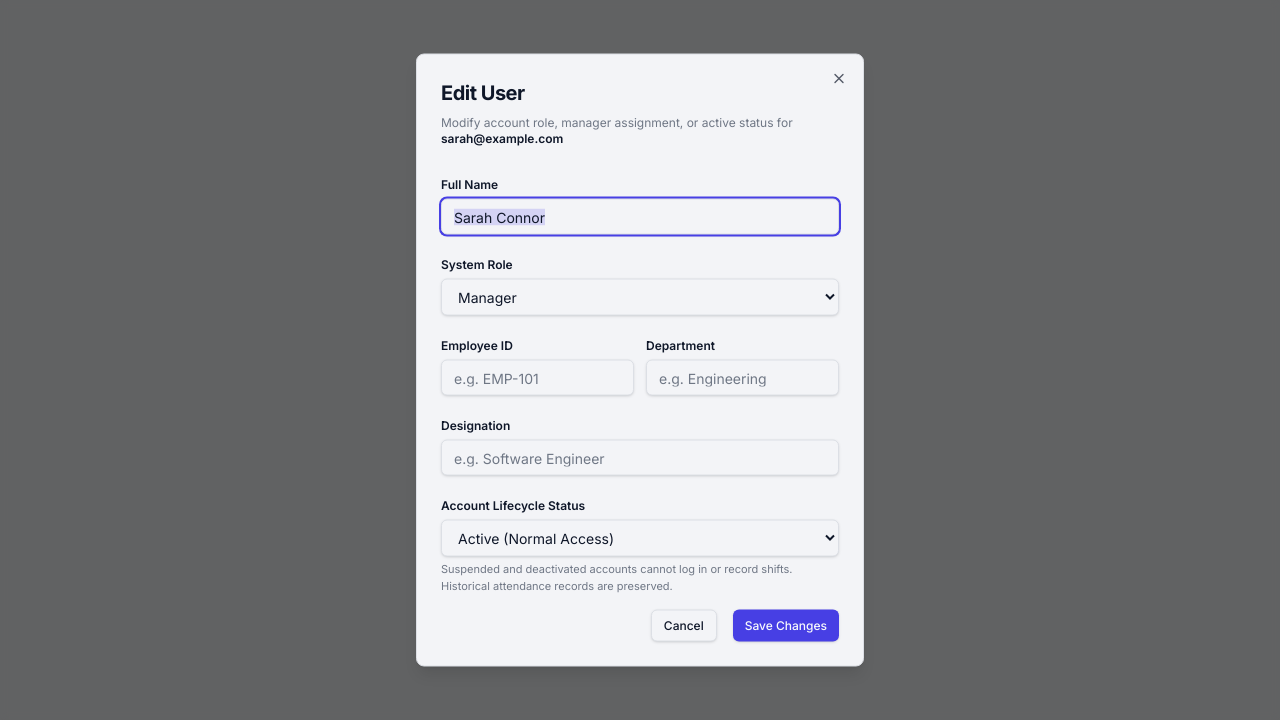
Scenario: UserEditDialog Component › maps HAS_TEAM_MEMBERS server error to descriptive message
The image size is (1280, 720).
Click the button "Save Changes" at [786, 626], box [733,610,839,642]
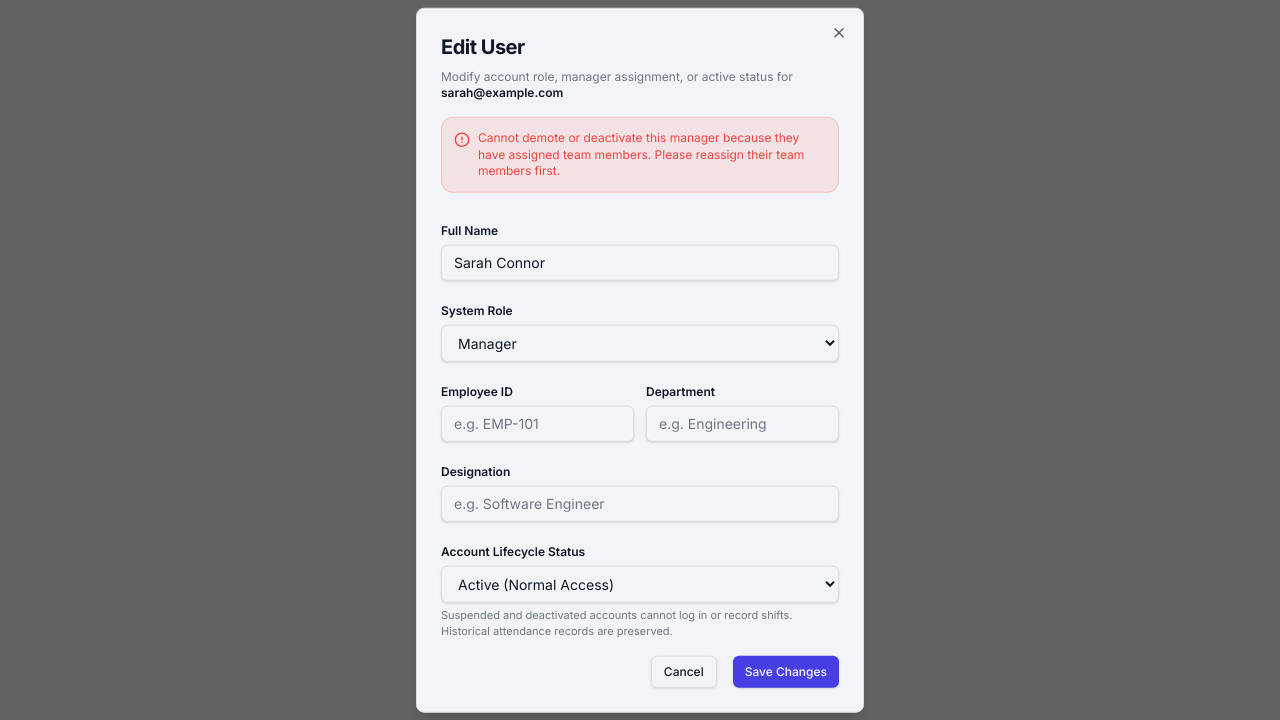
Check: the text "Cannot demote or deactivate this manager because they have assigned team members" is shown, box [478,130,804,178]
